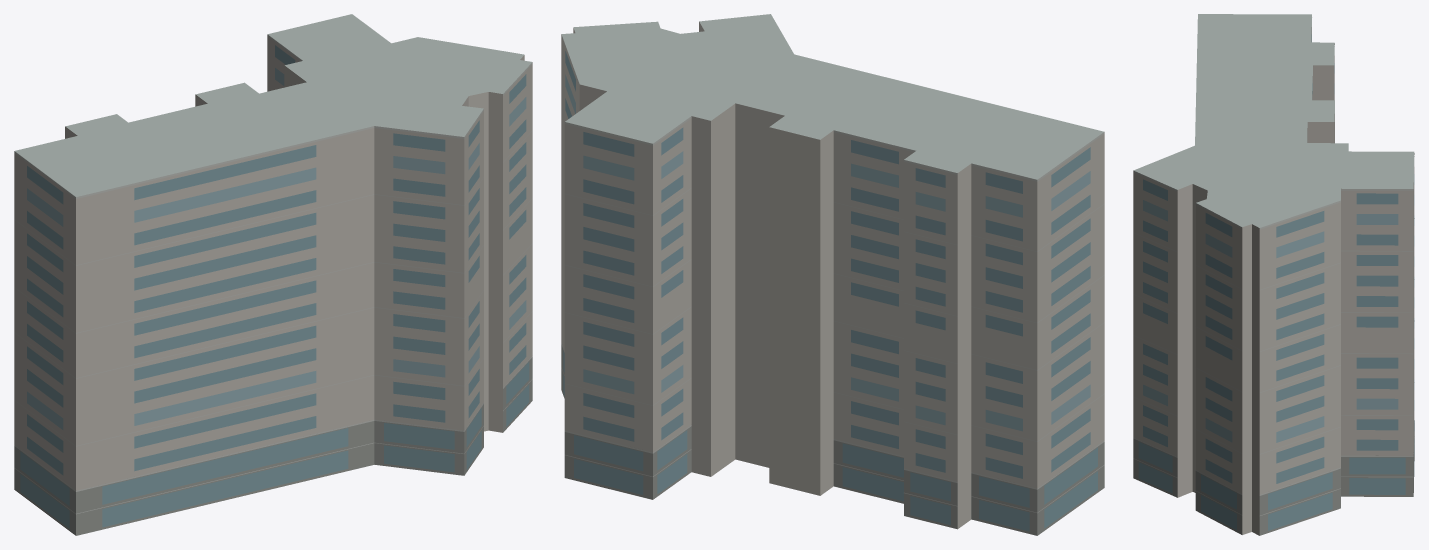
File: residential-dd30a78c-d30f-4011-b8d1-d9d12b4ee14e.glb
3 views of the same model, side by side, from view 1: azimuth 30°, elevation 25°; view 2: azimuth 150°, elevation 25°; view 3: azimuth 270°, elevation 25° (orthographic). The views are drawn at different scales.
Visible parts, largest first — view 1: residential-dd30a78c-d30f-4011-b8d1-d9d12b4ee14e.tmp; view 2: residential-dd30a78c-d30f-4011-b8d1-d9d12b4ee14e.tmp; view 3: residential-dd30a78c-d30f-4011-b8d1-d9d12b4ee14e.tmp.
Part boxes in pixels (x1=…): residential-dd30a78c-d30f-4011-b8d1-d9d12b4ee14e.tmp: x1=14, y1=14, x2=532, y2=535; residential-dd30a78c-d30f-4011-b8d1-d9d12b4ee14e.tmp: x1=561, y1=14, x2=1104, y2=535; residential-dd30a78c-d30f-4011-b8d1-d9d12b4ee14e.tmp: x1=1133, y1=14, x2=1414, y2=535.
Bounding box in the file's own units: 64.14 × 43 × 35.59.
